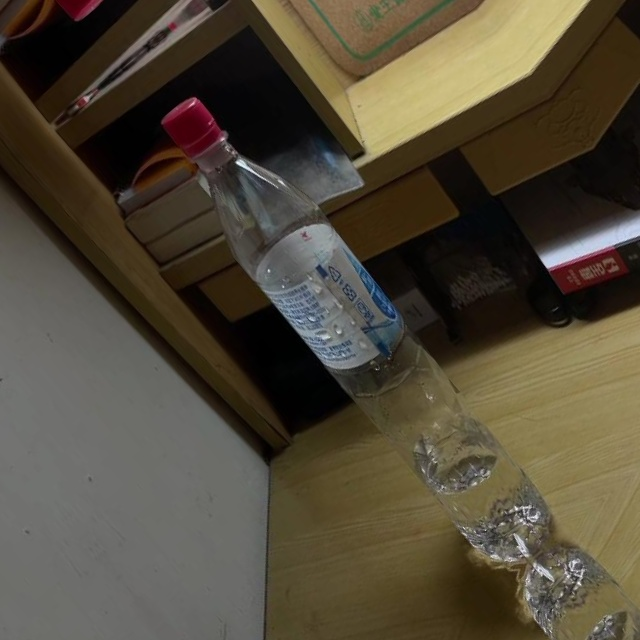Water: (135, 79, 579, 582)
